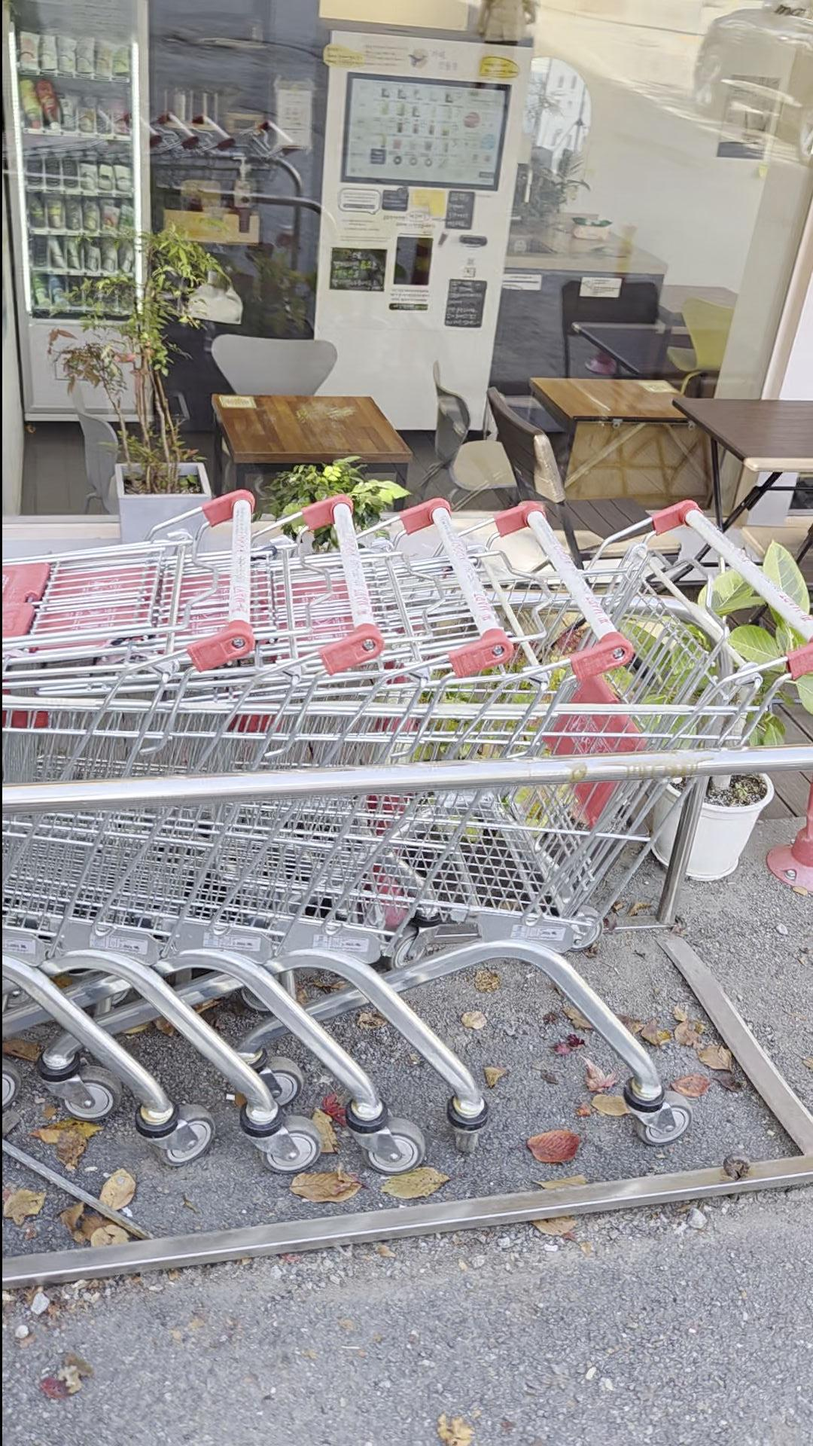combined_cart: (0, 488, 812, 1297)
